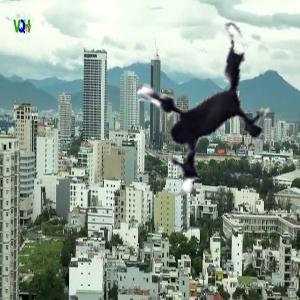drone: (92, 4, 299, 211)
